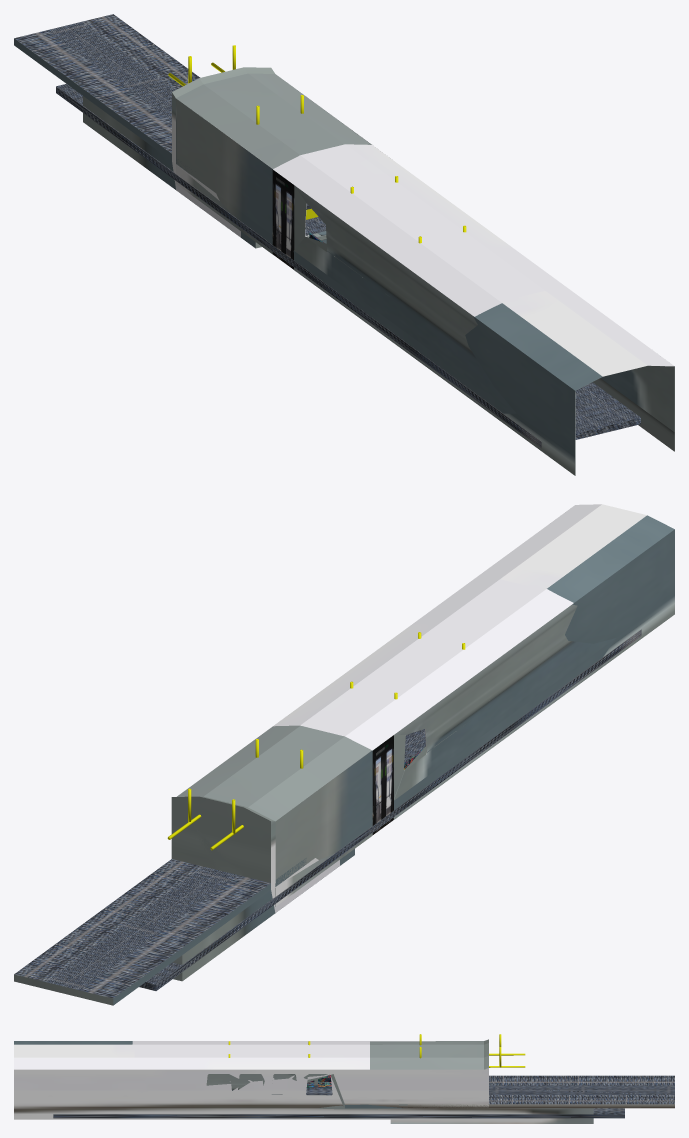
File: buasv2.fbx
3 views of the same model, one above another, from view 1: azimuth 30°, elevation 25°; view 2: azimuth 150°, elevation 25°; view 3: azimuth 270°, elevation 25° (orthographic). The views are drawn at different scales.
Parts seen in each view (by area): view 1: Cube.035, Cube; view 2: Cube.035, Cube; view 3: Cube.035, Cube.
Part boxes in pixels (<box>): Cube.035: <box>14,14,674,475</box>; Cube: <box>56,84,640,448</box>; Cube.035: <box>14,504,674,1005</box>; Cube: <box>139,629,641,990</box>; Cube.035: <box>14,1039,674,1123</box>; Cube: <box>53,1085,624,1118</box>.
Size of the model in its own units: 800 by 888 by 7743.
